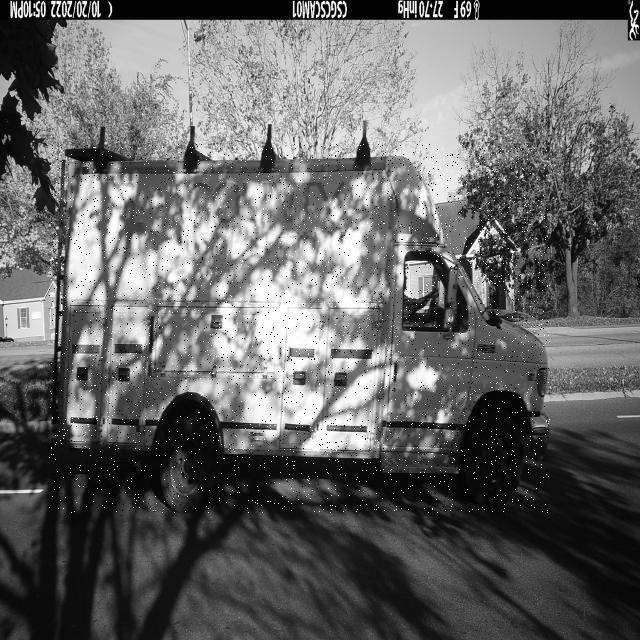Pickup- Utility: (49, 144, 550, 513)
